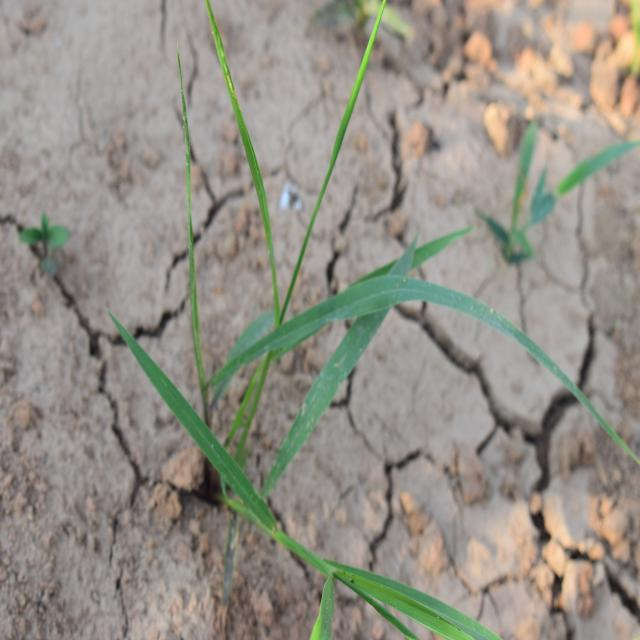green_foxtail: (173, 87, 434, 454)
